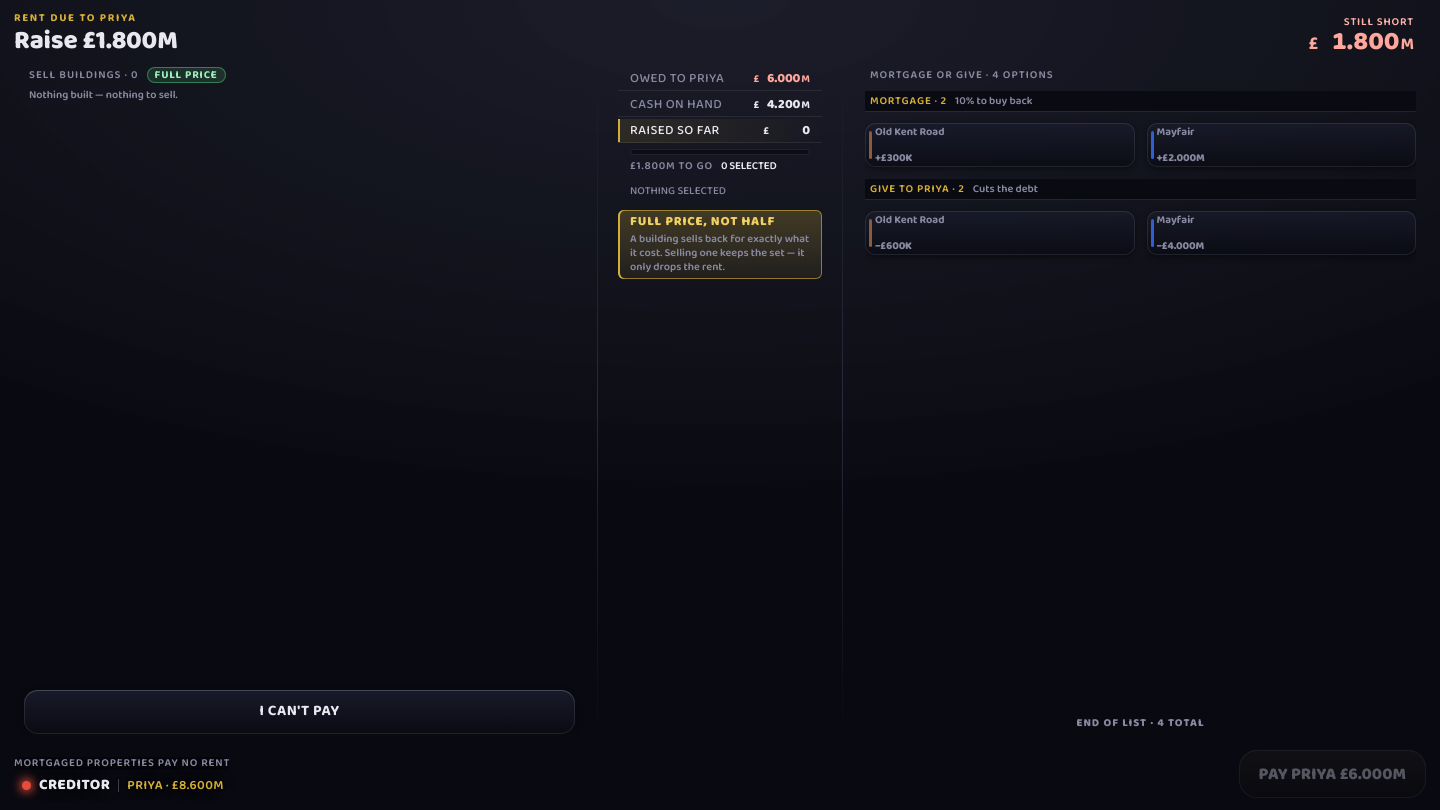
Scenario: BankruptcyPanel › credits the holdings instead when there was no monopoly to credit
The width and height of the screenshot is (1440, 810).
Step 1. Click the button "I can't pay" → (300, 712), box [24, 690, 575, 734]
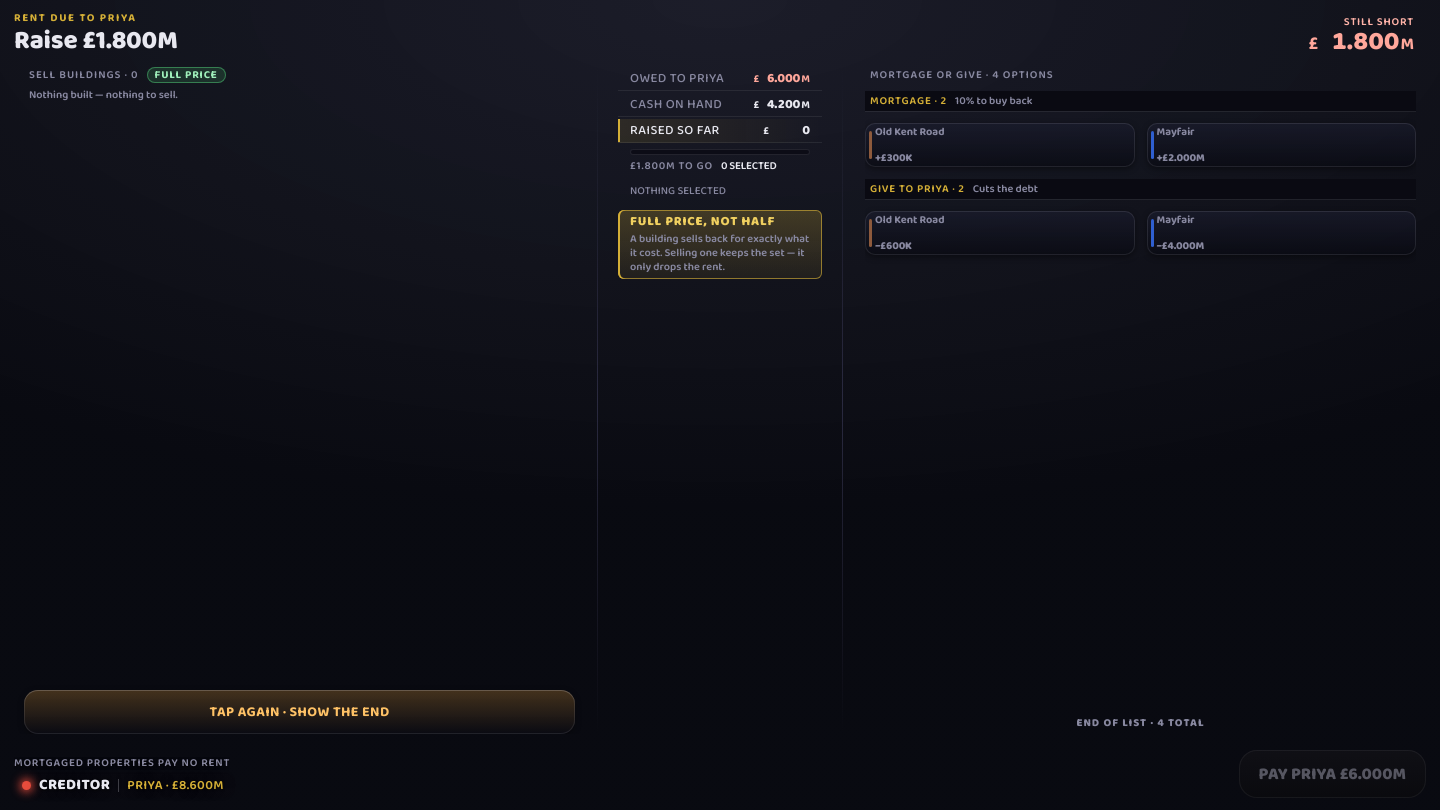
Step 2. Click the button with aria-label "I can't pay" → (300, 712), box [24, 690, 575, 734]
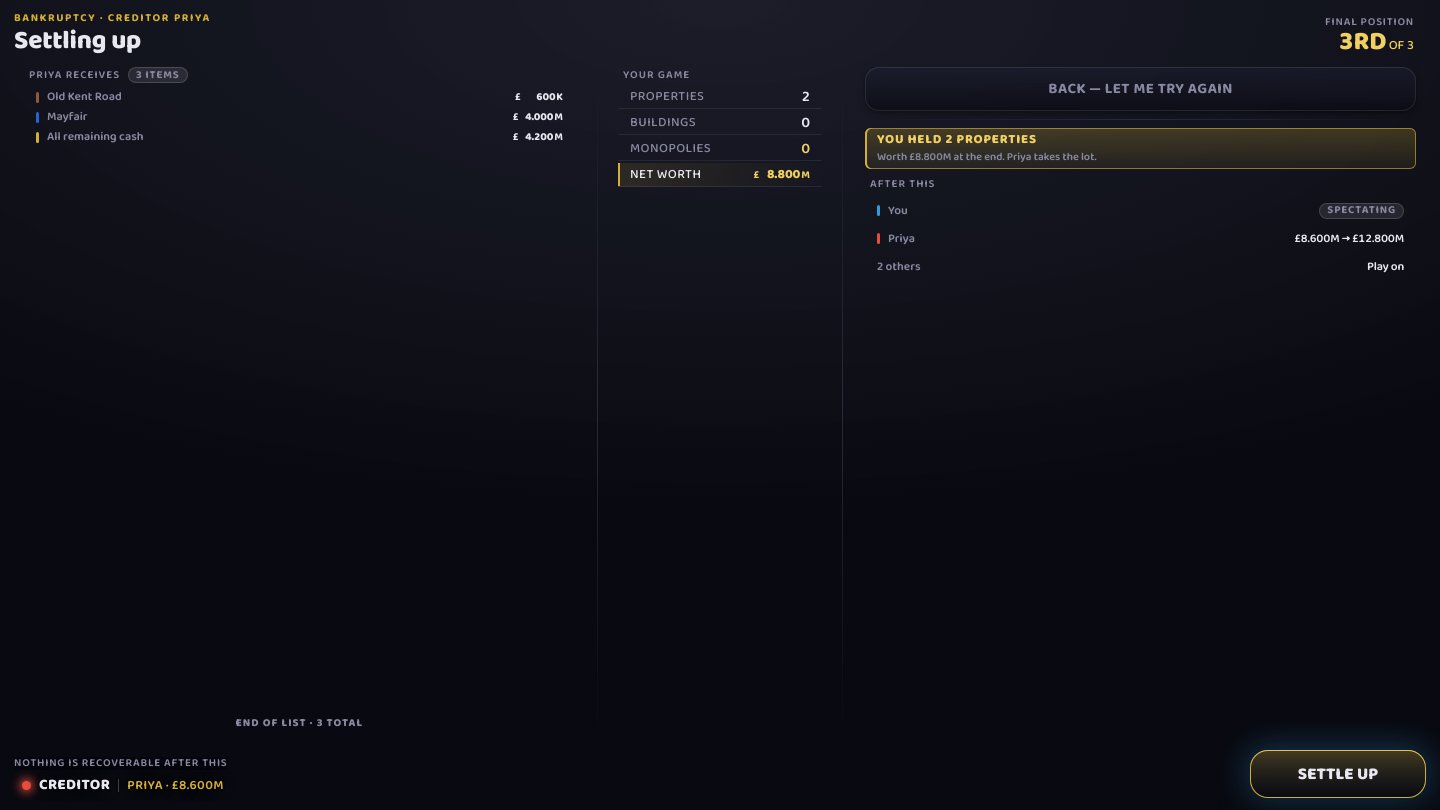
expect the text "You held 2 properties" is shown: met, box [877, 130, 1037, 150]
